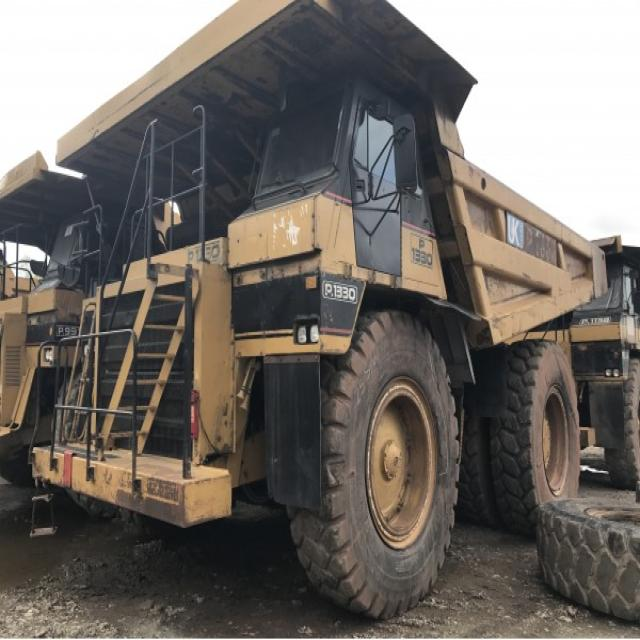dump_truck: (43, 0, 596, 605)
